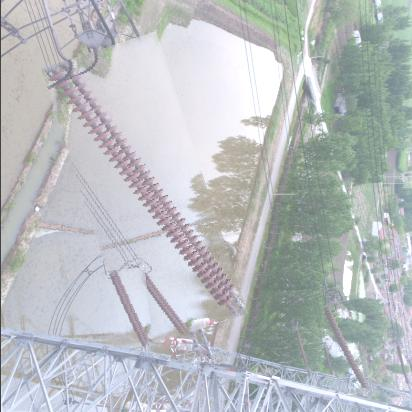insulator: (63, 38, 227, 346), (326, 302, 369, 398), (109, 269, 151, 350)
